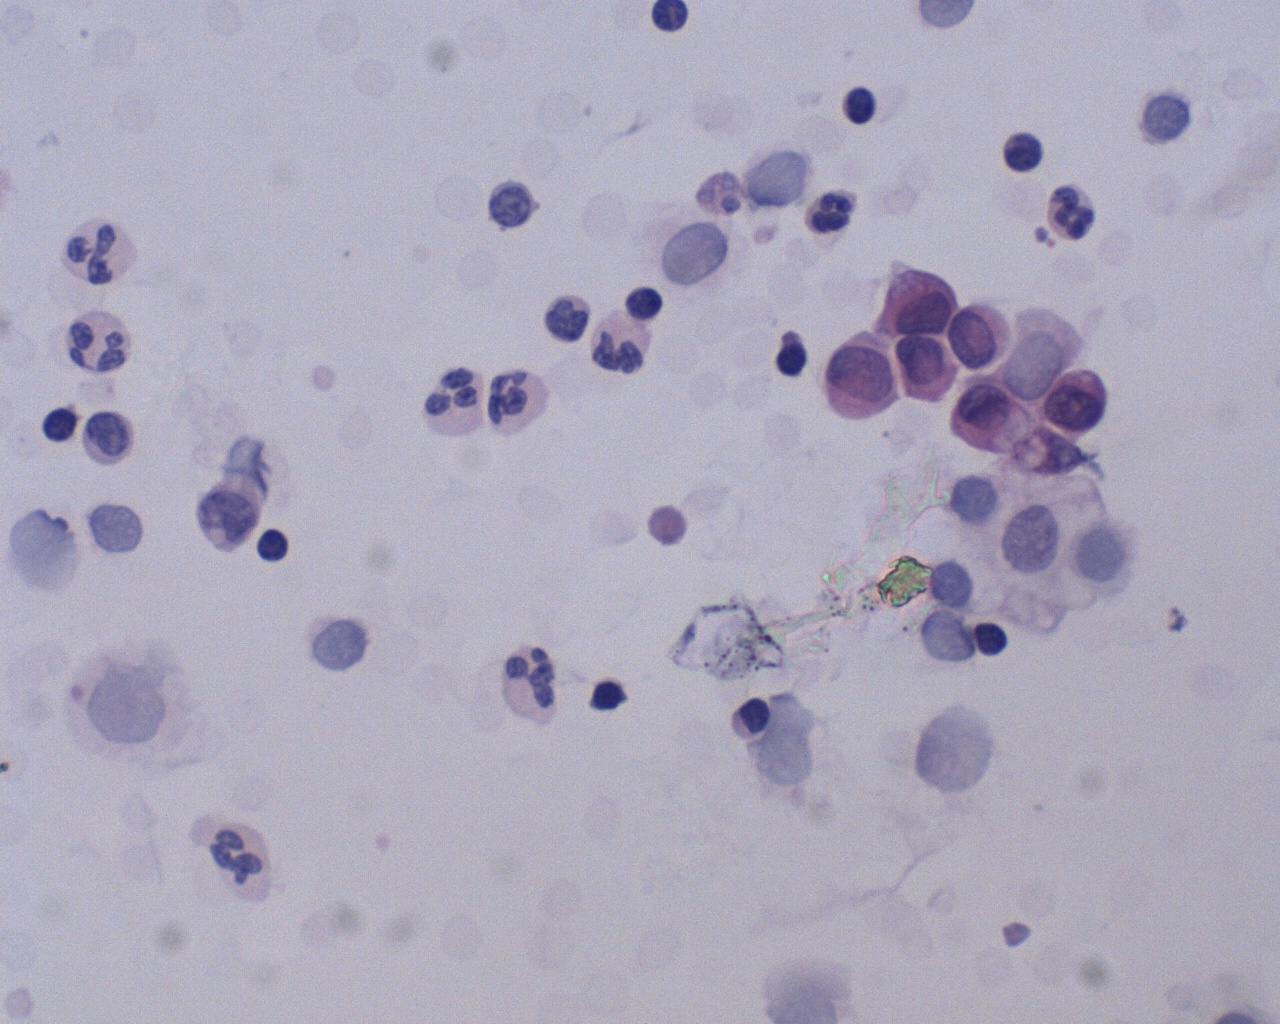ab: (818, 321, 900, 418), (944, 373, 1033, 456), (870, 256, 964, 333), (942, 294, 1022, 373), (890, 330, 958, 409), (1047, 359, 1111, 442)
lymph: (255, 523, 297, 572), (843, 82, 885, 127)
neutro: (57, 301, 145, 378), (501, 630, 571, 718), (483, 363, 560, 442), (50, 215, 140, 283), (420, 360, 491, 442), (1040, 183, 1104, 248), (798, 184, 860, 239)
